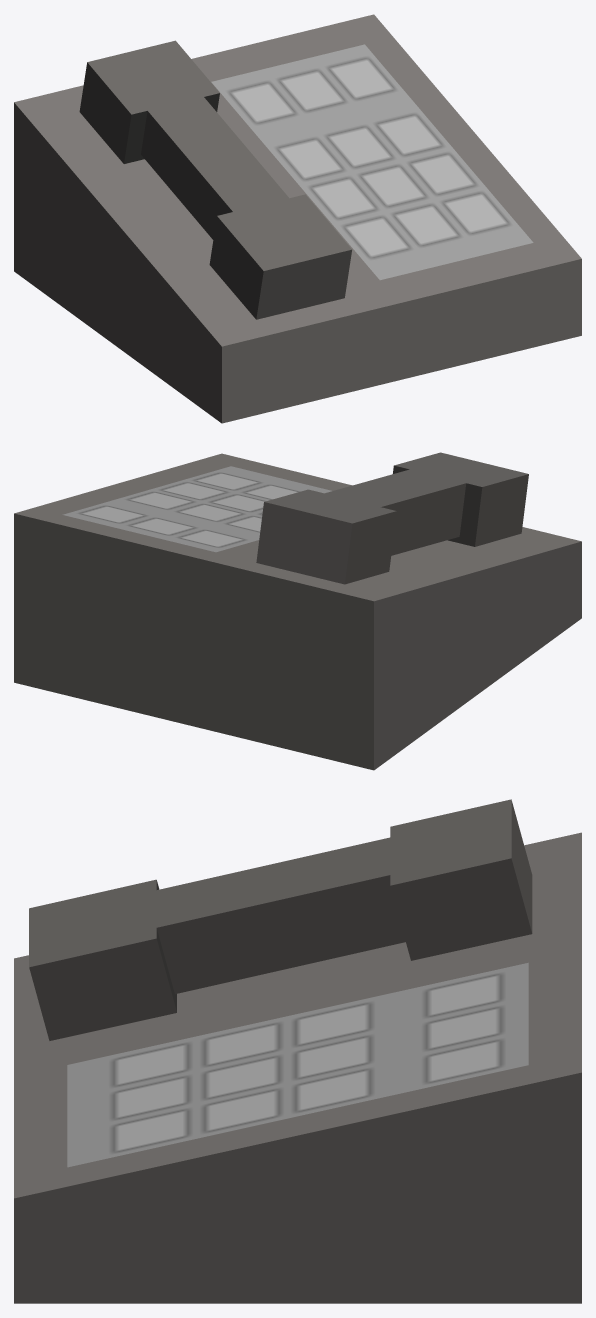
File: SO_Deskphone_01.fbx
The picture shows the model from 3 angles, top to bottom: view 1: azimuth 30°, elevation 25°; view 2: azimuth 150°, elevation 25°; view 3: azimuth 270°, elevation 25°; orthographic projection. The views are drawn at different scales.
Visible parts, largest first — view 1: SO_Deskphone_01; view 2: SO_Deskphone_01; view 3: SO_Deskphone_01.
Boxes of the visible parts, x1,y1,x2,y2 form: SO_Deskphone_01: (14, 14, 581, 423); SO_Deskphone_01: (14, 452, 581, 770); SO_Deskphone_01: (14, 799, 581, 1303).
Bounding box in the file's own units: 0.4438 × 0.2551 × 0.4438.
